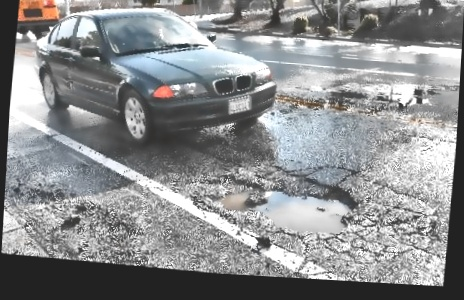pothole: (202, 166, 358, 236)
